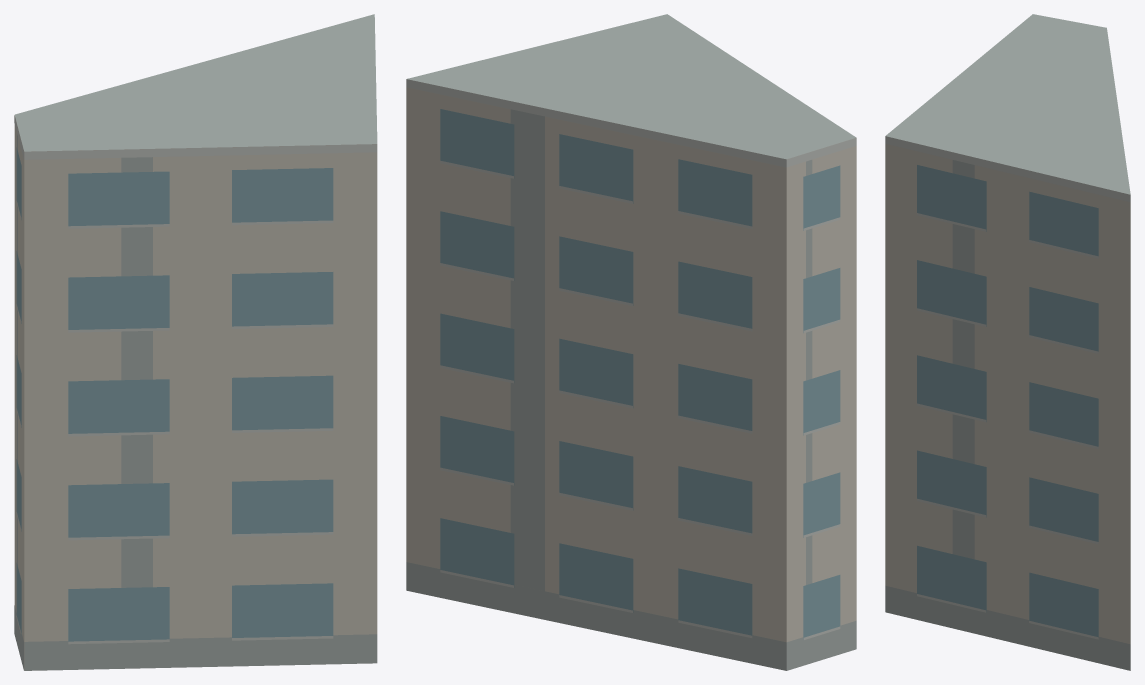
File: residential-b4ae81b4-4cd1-41de-919d-37de7fa7cdd2.glb
The picture shows the model from 3 angles, left to right: view 1: azimuth 30°, elevation 25°; view 2: azimuth 150°, elevation 25°; view 3: azimuth 270°, elevation 25°; orthographic projection. The views are drawn at different scales.
Visible parts, largest first — view 1: residential-b4ae81b4-4cd1-41de-919d-37de7fa7cdd2.tmp; view 2: residential-b4ae81b4-4cd1-41de-919d-37de7fa7cdd2.tmp; view 3: residential-b4ae81b4-4cd1-41de-919d-37de7fa7cdd2.tmp.
Part boxes in pixels (left/top/right/bottom): residential-b4ae81b4-4cd1-41de-919d-37de7fa7cdd2.tmp: left=14, top=14, right=377, bottom=670; residential-b4ae81b4-4cd1-41de-919d-37de7fa7cdd2.tmp: left=406, top=14, right=856, bottom=670; residential-b4ae81b4-4cd1-41de-919d-37de7fa7cdd2.tmp: left=885, top=14, right=1130, bottom=670.
Bounding box in the file's own units: 12.42 × 15.25 × 7.14.
